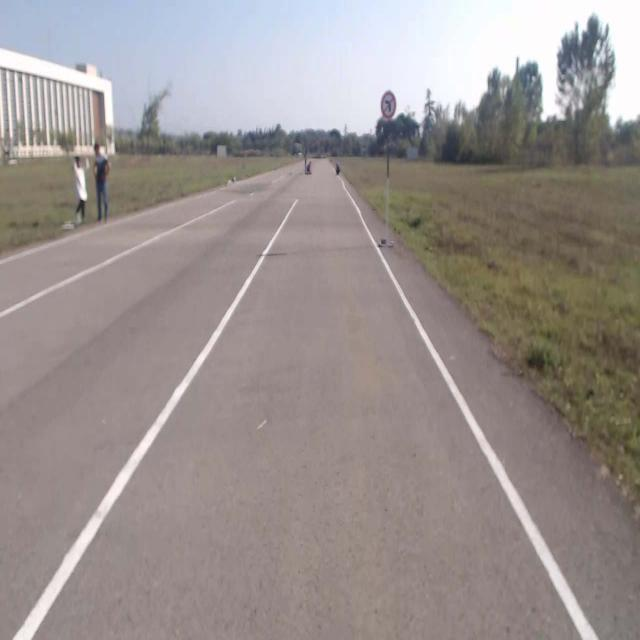soladonulmez: (382, 92, 395, 118)
